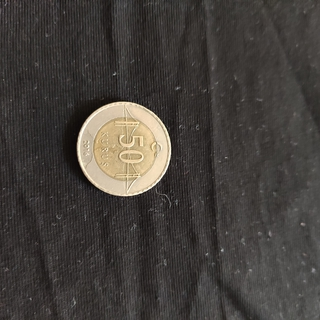50KURUS: (75, 99, 173, 198)
